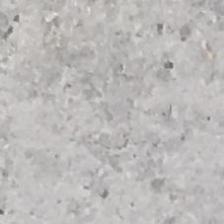Non_Crack: (26, 60, 208, 215)
